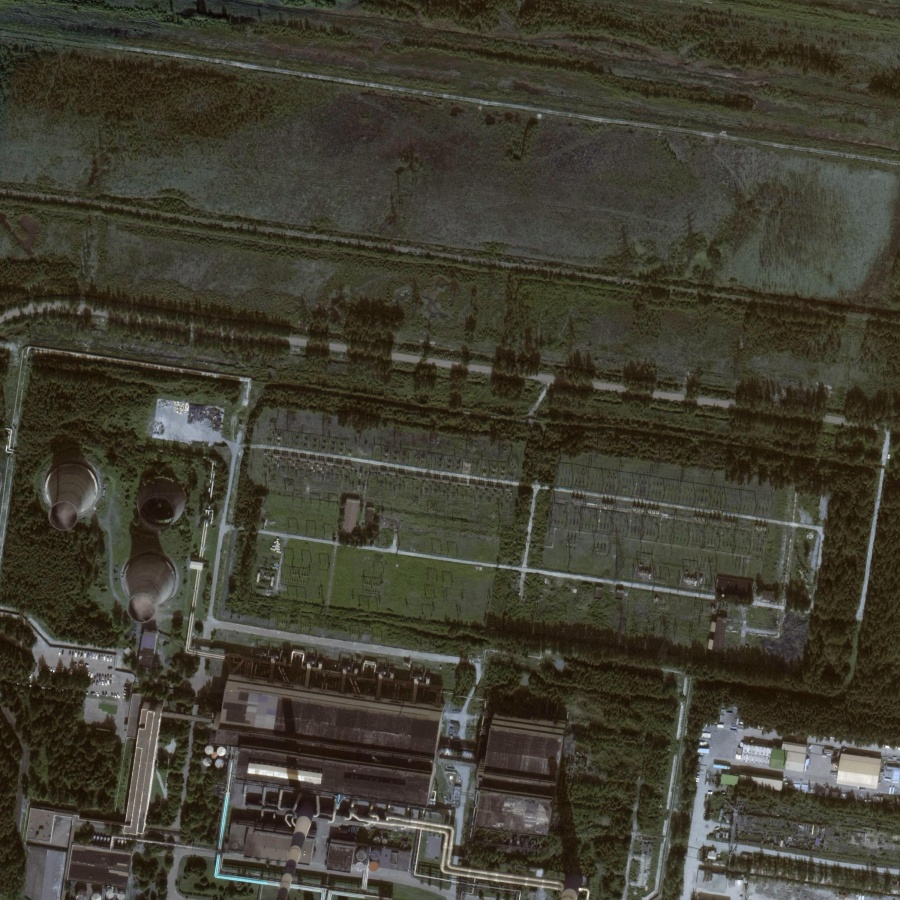PowerPlant: (17, 399, 216, 645)
